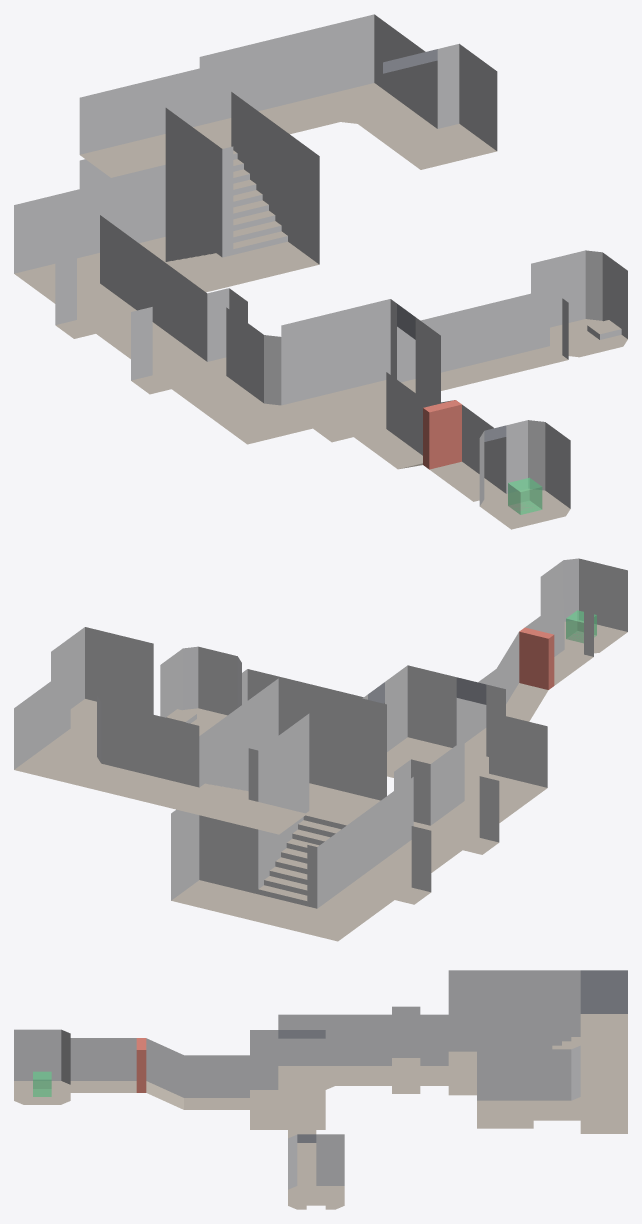
The model's file is habitat_10.glb.
3 views of the same model, one above another, from view 1: azimuth 30°, elevation 25°; view 2: azimuth 150°, elevation 25°; view 3: azimuth 270°, elevation 25° (orthographic). The views are drawn at different scales.
Parts seen in each view (by area): view 1: room:4, corridor:3, corridor:0, room:1, corridor:2, room:0, room:3, room:2, corridor:1, entities; view 2: room:4, corridor:3, corridor:0, room:1, room:0, corridor:1, room:2, room:3, entities, corridor:2; view 3: room:4, corridor:3, corridor:1, corridor:0, room:1, room:0, room:2, room:3, entities, corridor:2.
Part boxes in pixels (bbox=[...]): room:4: bbox=[79, 68, 319, 292]; corridor:3: bbox=[14, 189, 312, 444]; corridor:0: bbox=[199, 14, 437, 147]; room:1: bbox=[281, 299, 440, 442]; corridor:2: bbox=[397, 289, 568, 392]; room:0: bbox=[383, 43, 497, 169]; room:3: bbox=[531, 250, 627, 357]; room:2: bbox=[479, 420, 570, 529]; corridor:1: bbox=[354, 372, 506, 501]; entities: bbox=[423, 400, 542, 514]; room:4: bbox=[171, 678, 386, 926]; corridor:3: bbox=[279, 712, 547, 941]; corridor:0: bbox=[14, 667, 199, 808]; room:1: bbox=[362, 665, 505, 790]; room:0: bbox=[51, 627, 153, 734]; corridor:1: bbox=[456, 598, 593, 756]; room:2: bbox=[540, 558, 627, 654]; room:3: bbox=[160, 646, 241, 735]; entities: bbox=[519, 610, 596, 689]; corridor:2: bbox=[242, 669, 384, 704]; room:4: bbox=[448, 970, 627, 1133]; corridor:3: bbox=[278, 1006, 448, 1093]; corridor:1: bbox=[70, 1038, 249, 1109]; corridor:0: bbox=[533, 1005, 627, 1120]; room:1: bbox=[250, 1030, 325, 1129]; room:0: bbox=[477, 1041, 533, 1128]; room:2: bbox=[14, 1029, 70, 1104]; room:3: bbox=[288, 1134, 344, 1209]; entities: bbox=[33, 1038, 146, 1096]; corridor:2: bbox=[288, 1130, 316, 1185].
Size of the model in its own units: 38 by 16 by 65.
